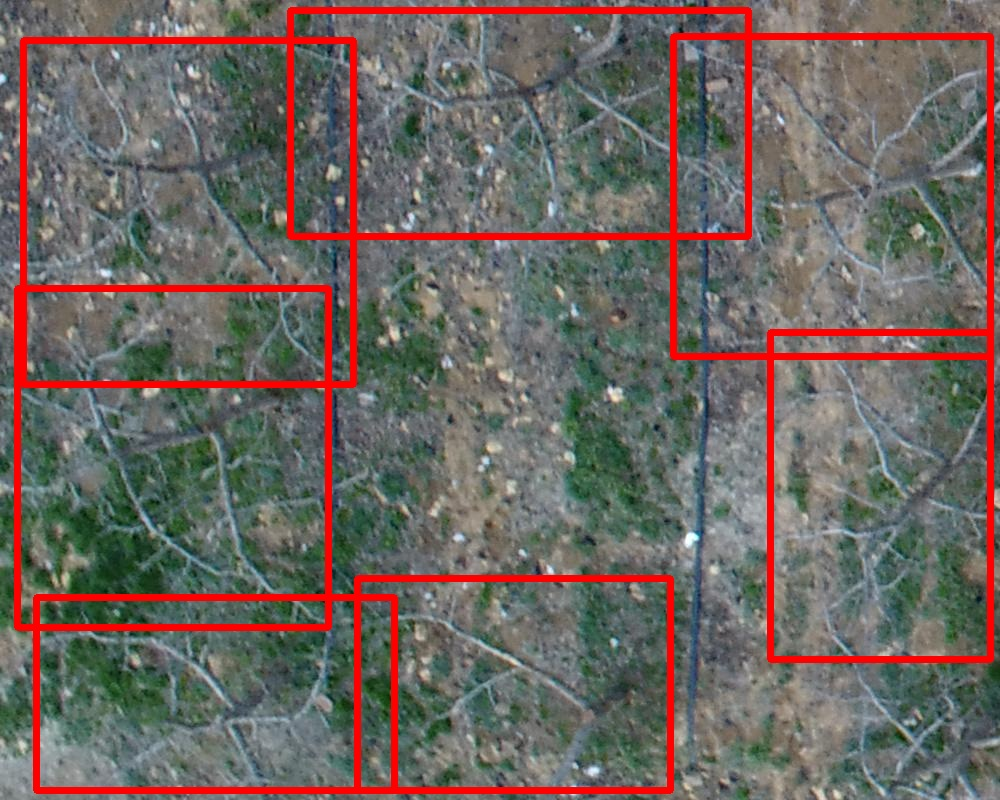apple: (23, 40, 353, 384), (17, 288, 328, 627), (290, 10, 748, 236), (673, 36, 990, 356), (770, 332, 990, 659), (36, 597, 394, 790), (357, 578, 670, 790)
